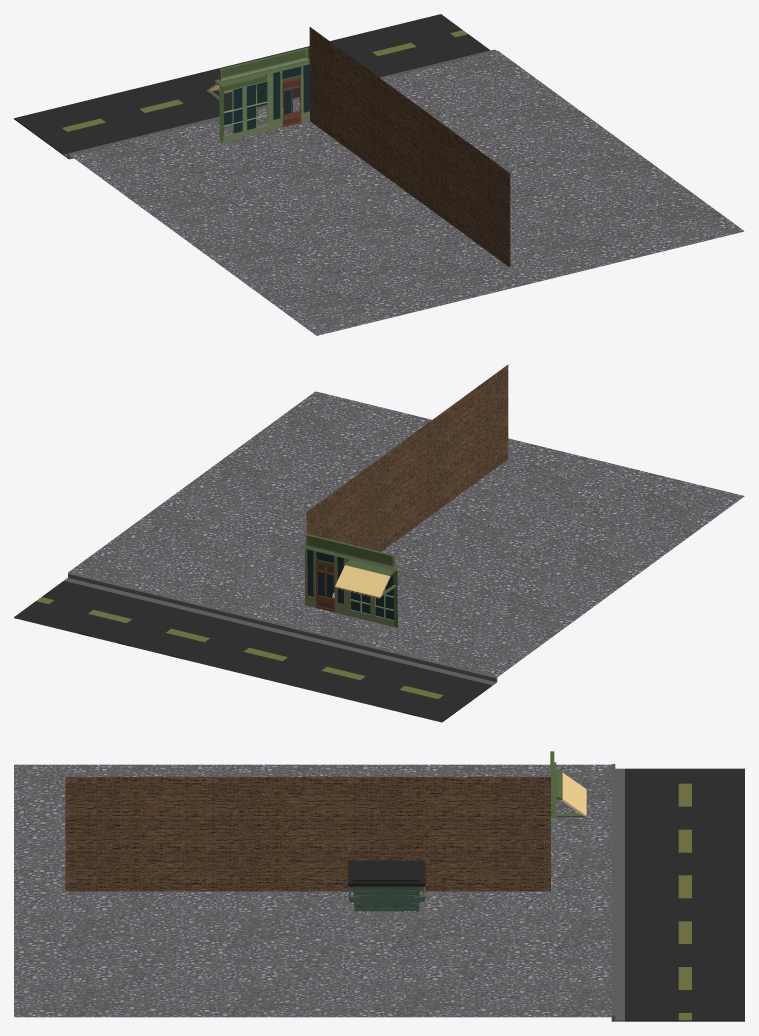
File: restaurantexterior (1).fbx
The picture shows the model from 3 angles, top to bottom: view 1: azimuth 30°, elevation 25°; view 2: azimuth 150°, elevation 25°; view 3: azimuth 270°, elevation 25°; orthographic projection. The views are drawn at different scales.
Visible parts, largest first — view 1: Plane.002, Plane, Cube, Plane.001; view 2: Plane.002, Cube, Plane, Plane.001; view 3: Plane.002, Plane, Cube, Dumpster, Plane.001.
Boxes of the visible parts, x1=… form: Plane.002: x1=70, y1=50, x2=744, y2=335; Plane: x1=309, y1=27, x2=510, y2=267; Cube: x1=14, y1=14, x2=495, y2=159; Plane.001: x1=207, y1=47, x2=310, y2=142; Plane.002: x1=68, y1=391, x2=744, y2=677; Cube: x1=14, y1=573, x2=497, y2=722; Plane: x1=306, y1=364, x2=508, y2=606; Plane.001: x1=301, y1=534, x2=399, y2=627; Plane.002: x1=14, y1=764, x2=611, y2=1017; Plane: x1=65, y1=777, x2=550, y2=891; Cube: x1=611, y1=764, x2=744, y2=1021; Dumpster: x1=348, y1=860, x2=425, y2=911; Plane.001: x1=549, y1=751, x2=586, y2=882.
Bounding box in the file's own units: 5928 × 1308 × 7243.
14 materials, 2 textured.
